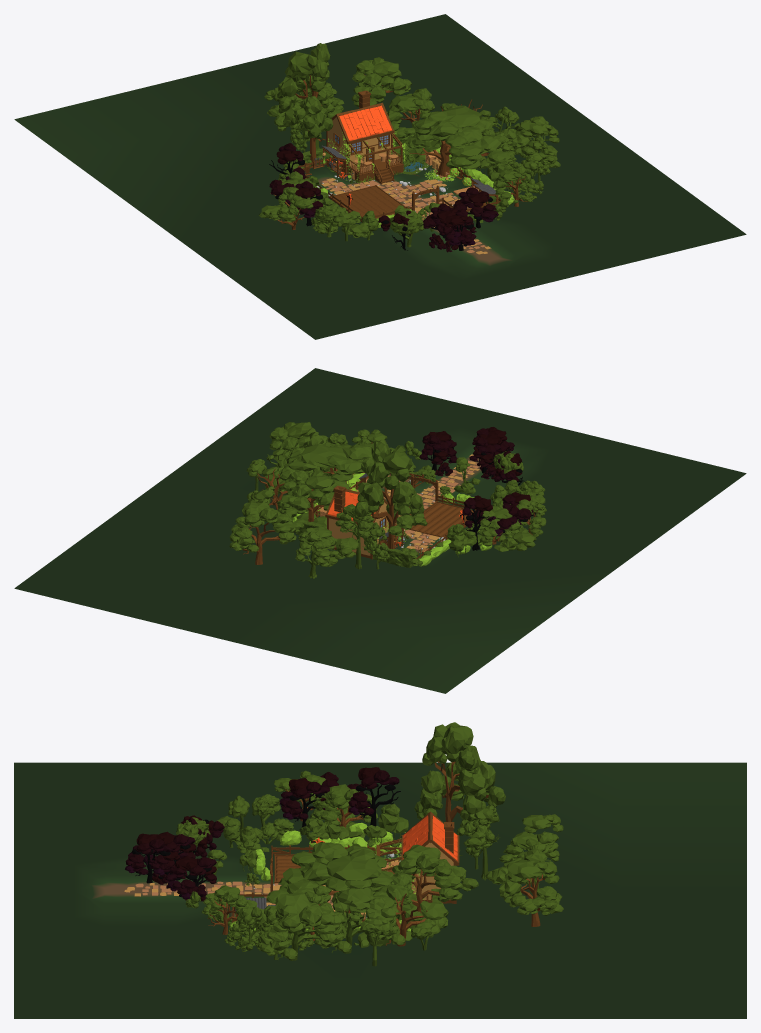
Rendered from Garden_All_Merged-transformed.glb.
3 renders of one model, top to bottom at view 1: azimuth 30°, elevation 25°; view 2: azimuth 150°, elevation 25°; view 3: azimuth 270°, elevation 25°, orthographic. The views are drawn at different scales.
Parts seen in each view (by area): view 1: MergedEnvironment, Big Tree, soil; view 2: MergedEnvironment, Big Tree, soil; view 3: MergedEnvironment, Big Tree.
Boxes of the visible parts, x1,y1,x2,y2 form: MergedEnvironment: [14, 14, 746, 339]; Big Tree: [408, 105, 510, 179]; soil: [333, 187, 404, 218]; MergedEnvironment: [14, 368, 746, 693]; Big Tree: [280, 442, 372, 493]; soil: [411, 502, 473, 536]; MergedEnvironment: [14, 722, 746, 1018]; Big Tree: [266, 842, 400, 913].
Bounding box in the file's own units: 69.51 × 23.63 × 84.05.
